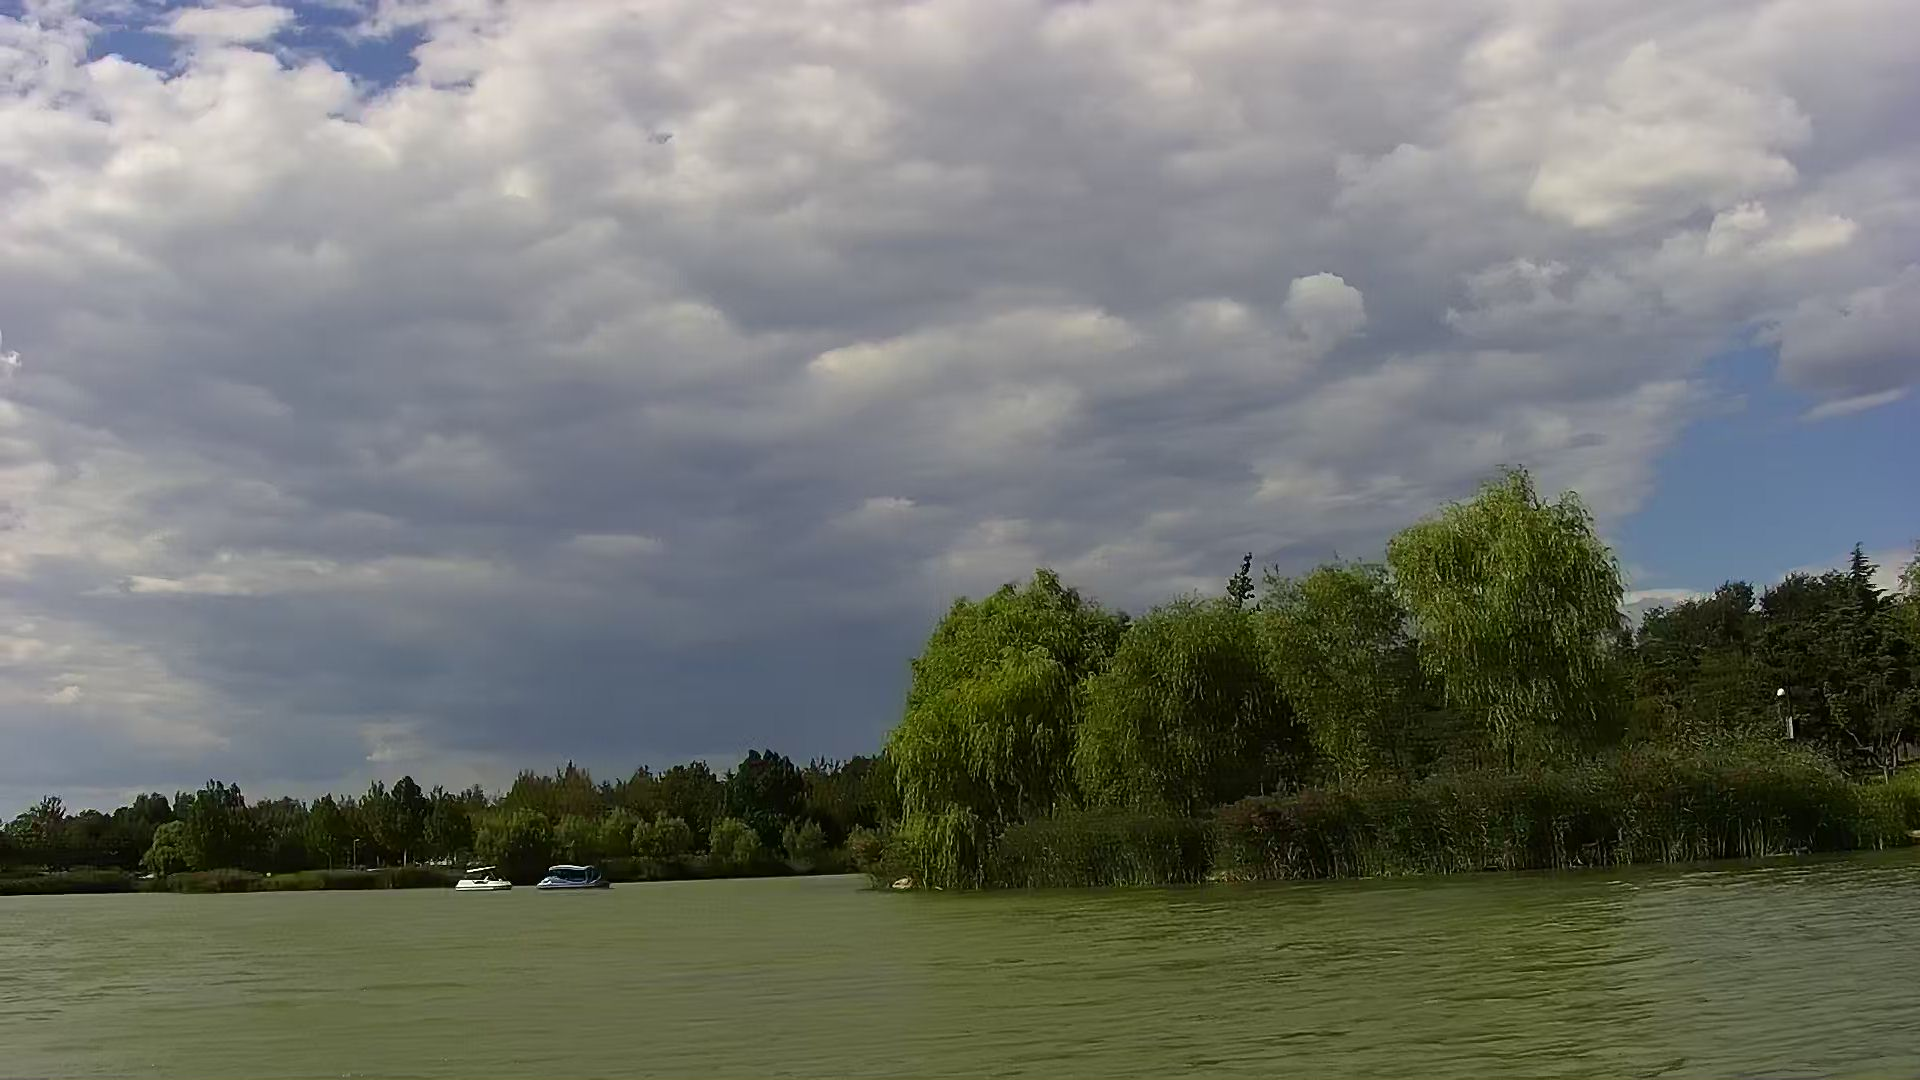boat: (535, 860, 612, 891), (455, 865, 514, 894)
rock: (885, 880, 919, 893)
